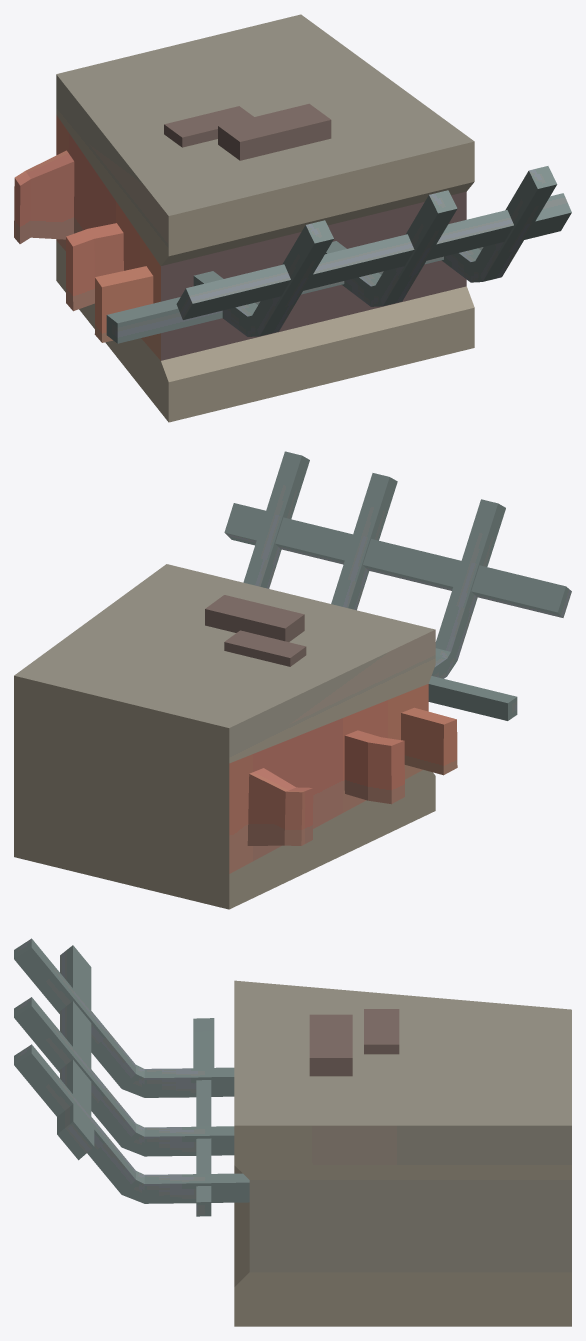
Rendered from 151_LowwallPiece2military.gltf.
The picture shows the model from 3 angles, top to bottom: view 1: azimuth 30°, elevation 25°; view 2: azimuth 150°, elevation 25°; view 3: azimuth 270°, elevation 25°; orthographic projection. The views are drawn at different scales.
Parts seen in each view (by area): view 1: LowwallPiece2military; view 2: LowwallPiece2military; view 3: LowwallPiece2military.
Boxes of the visible parts, <box> form: LowwallPiece2military: <box>14,14,571,422</box>; LowwallPiece2military: <box>14,451,571,909</box>; LowwallPiece2military: <box>14,938,571,1326</box>.
Size of the model in its own units: 6.98 by 4.61 by 9.03.
Materials: 1 (1 with a texture image).
